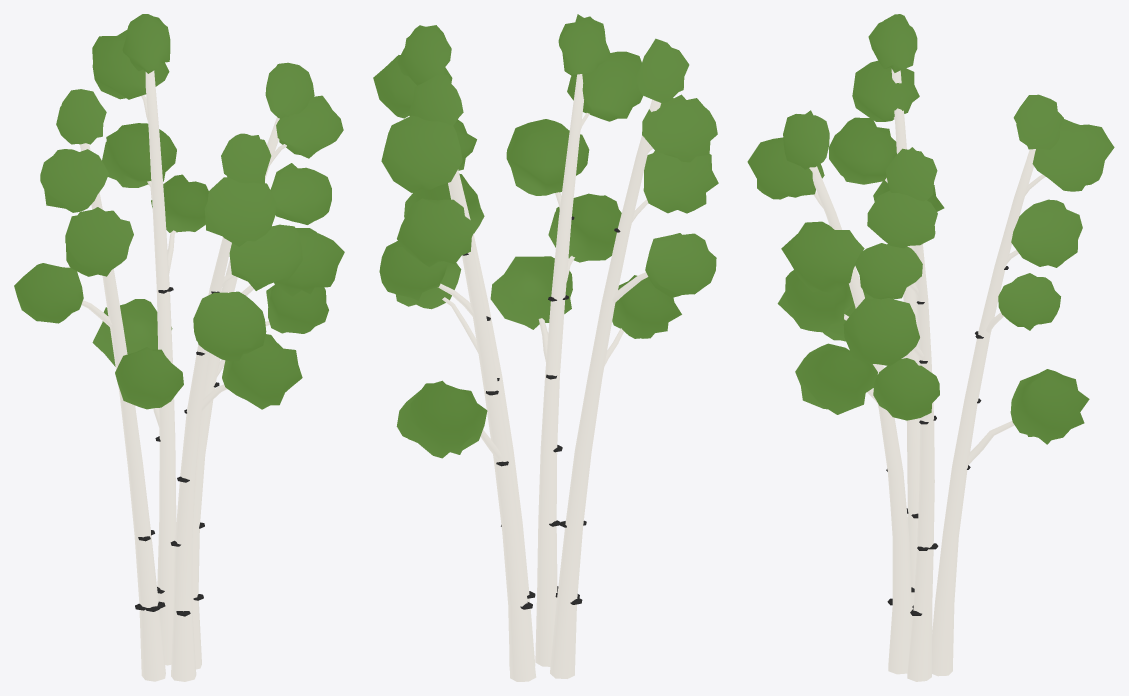
Rendered from Blender_PaperBirch_1.glb.
The picture shows the model from 3 angles, left to right: view 1: azimuth 30°, elevation 25°; view 2: azimuth 150°, elevation 25°; view 3: azimuth 270°, elevation 25°; orthographic projection. The views are drawn at different scales.
Parts seen in each view (by area): view 1: Blender_PaperBirch_1; view 2: Blender_PaperBirch_1; view 3: Blender_PaperBirch_1.
Part boxes in pixels (bbox=[...]): Blender_PaperBirch_1: bbox=[14, 14, 344, 681]; Blender_PaperBirch_1: bbox=[373, 14, 718, 681]; Blender_PaperBirch_1: bbox=[747, 14, 1114, 681].
Size of the model in its own units: 10.2 by 18.94 by 10.42.
